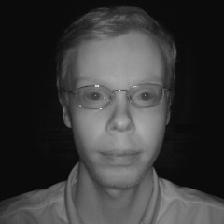normal: (42, 8, 187, 197)
